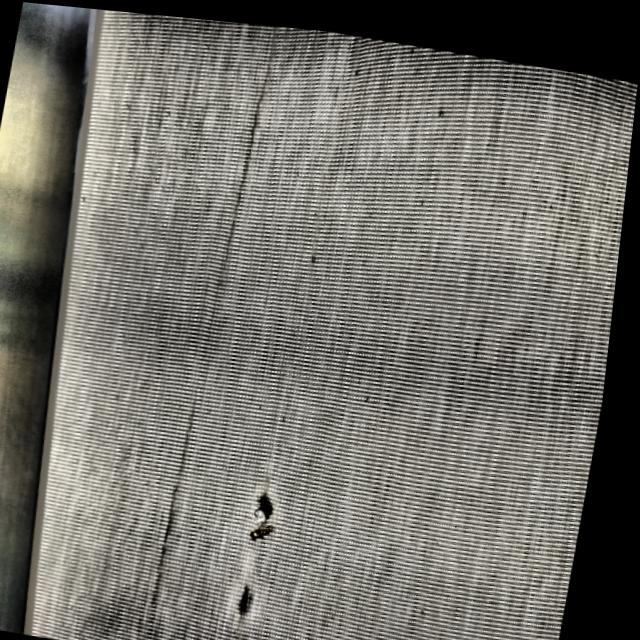Hole: (249, 458, 299, 548), (237, 575, 290, 627), (261, 524, 270, 533)
